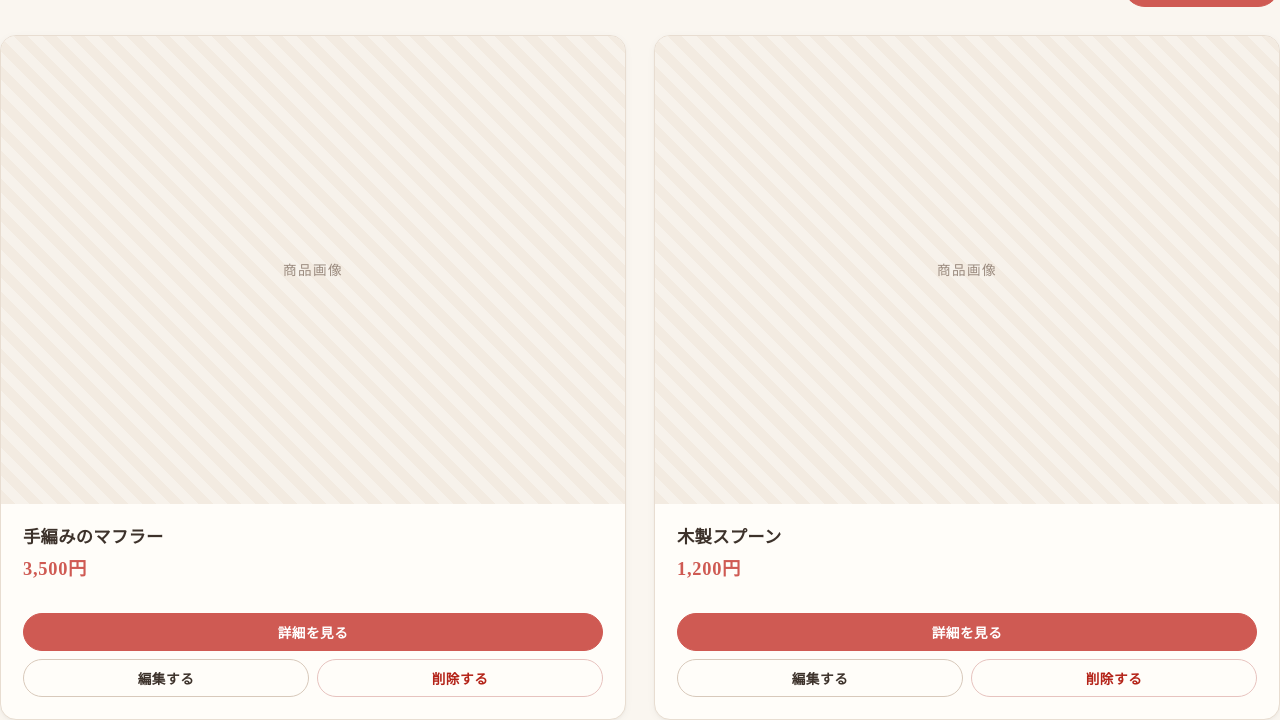
Test: 商品一覧画面：商品削除 › すでに削除されていた場合（404）は、一覧から消してその旨を表示する
(page scrolled)
Click the button with aria-label "木製スプーンを削除する".
click(1114, 678)  # box [971,659,1257,697]
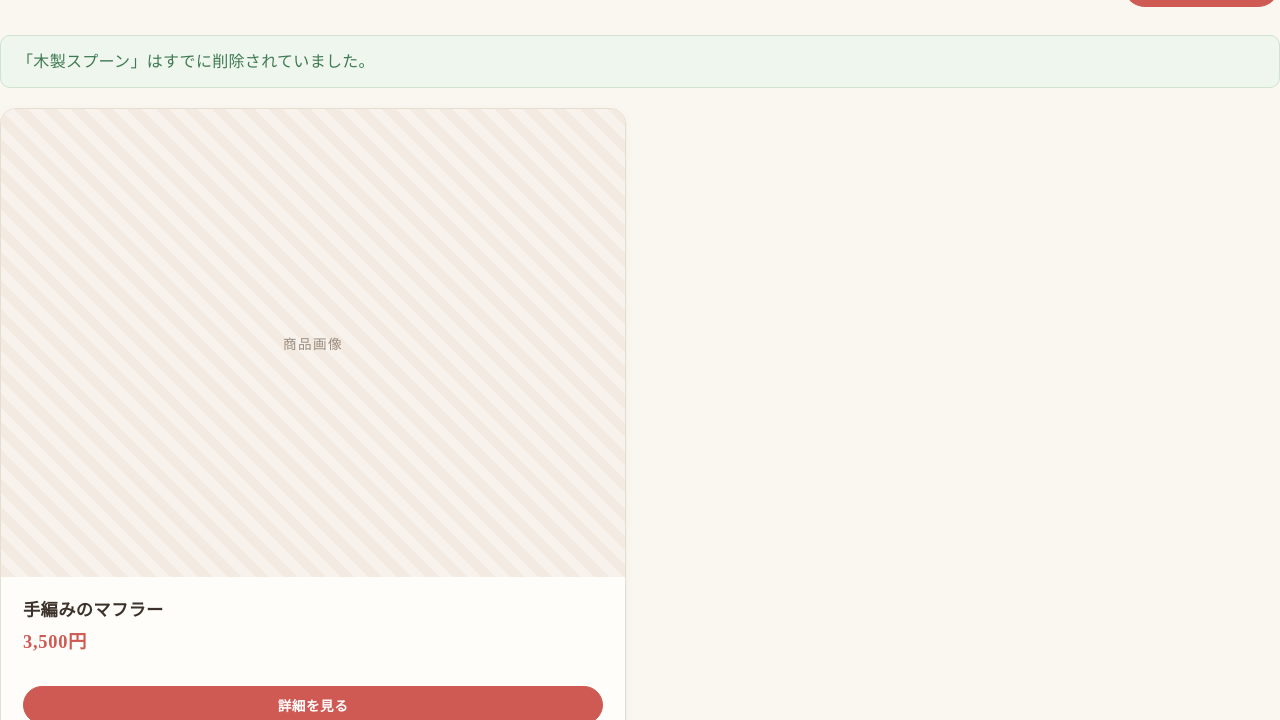
Now the text "「木製スプーン」はすでに削除されていました。" is shown, box [0,35,1279,88]
